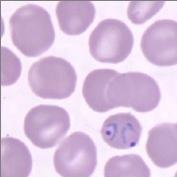Infected: (100, 113, 142, 150)
Uninfected: (9, 5, 55, 58), (105, 71, 160, 113), (88, 18, 134, 64), (28, 56, 76, 99), (24, 105, 70, 149), (53, 131, 97, 176), (82, 69, 129, 111), (140, 18, 177, 66), (55, 0, 95, 35), (146, 123, 177, 167), (0, 136, 32, 177), (104, 154, 150, 177), (127, 0, 165, 24)
